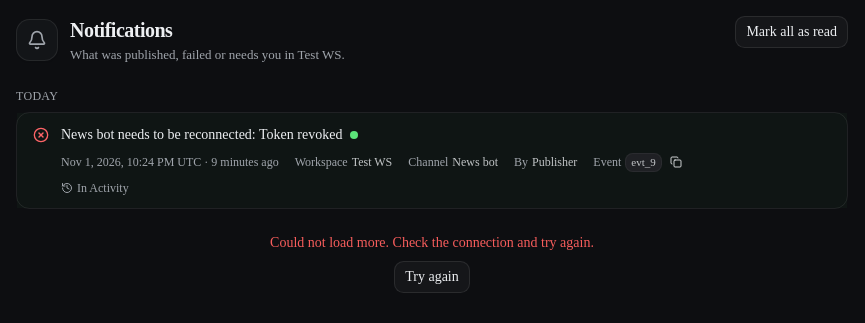
Test case: notifications › stops automatic pagination on error, keeps loaded notifications, and retries the failed page on demand
This screenshot has width=865, height=323.
Expected: the message shows "Could not load more", [270, 235, 594, 250]
Click the button "Try again" at (432, 277), box [394, 261, 470, 293]
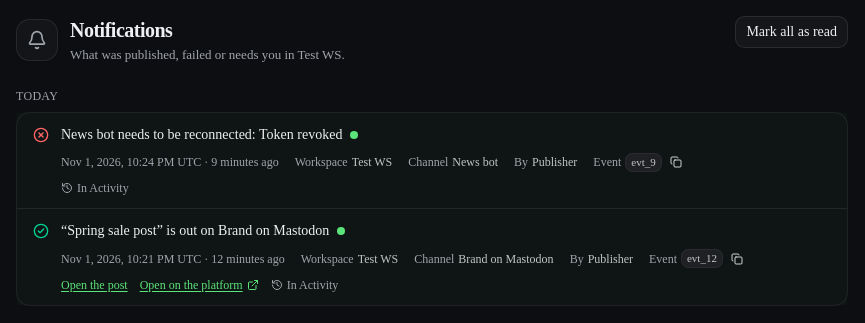
Expected: the message "Could not load more. Check the connection and try again." is gone
